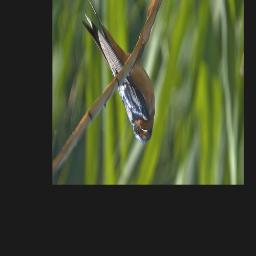Swallow: (80, 0, 155, 144)
